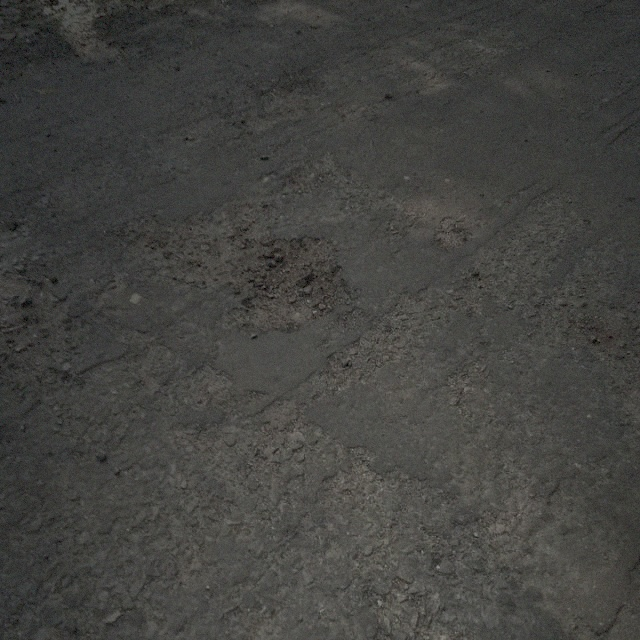pothole: (240, 230, 357, 331)
